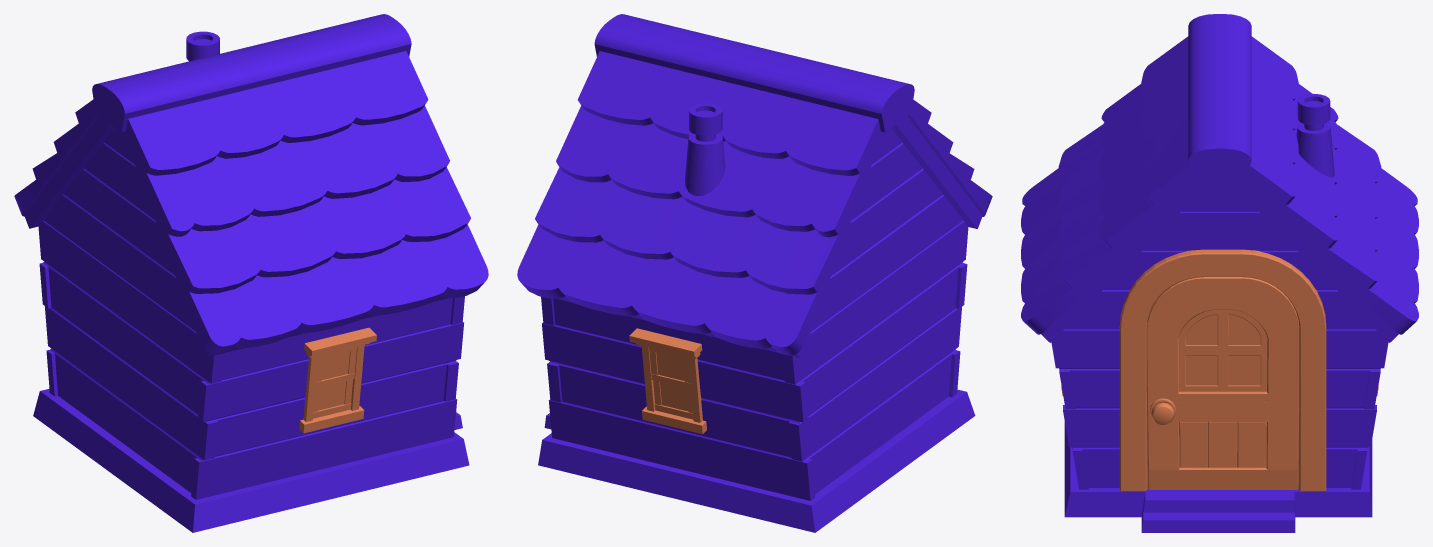
The model's file is Animal Crossing House.fbx.
The picture shows the model from 3 angles, left to right: view 1: azimuth 30°, elevation 25°; view 2: azimuth 150°, elevation 25°; view 3: azimuth 270°, elevation 25°; orthographic projection. The views are drawn at different scales.
Visible parts, largest first — view 1: House; view 2: House; view 3: House.
Boxes of the visible parts, x1=… form: House: x1=14, y1=14, x2=488, y2=532; House: x1=517, y1=14, x2=992, y2=532; House: x1=1021, y1=14, x2=1418, y2=532.
Bounding box in the file's own units: 186 × 219 × 212.
